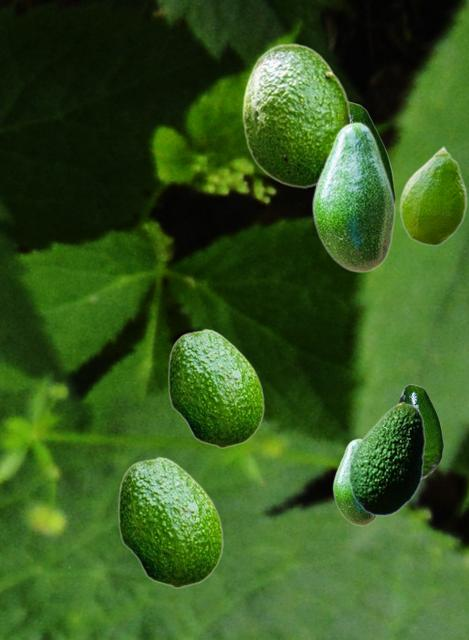avocado: (241, 43, 351, 187), (117, 456, 222, 587), (311, 121, 394, 272), (167, 328, 263, 447), (348, 402, 424, 515), (399, 145, 466, 245), (350, 101, 394, 195), (398, 384, 442, 478), (332, 438, 377, 525)
